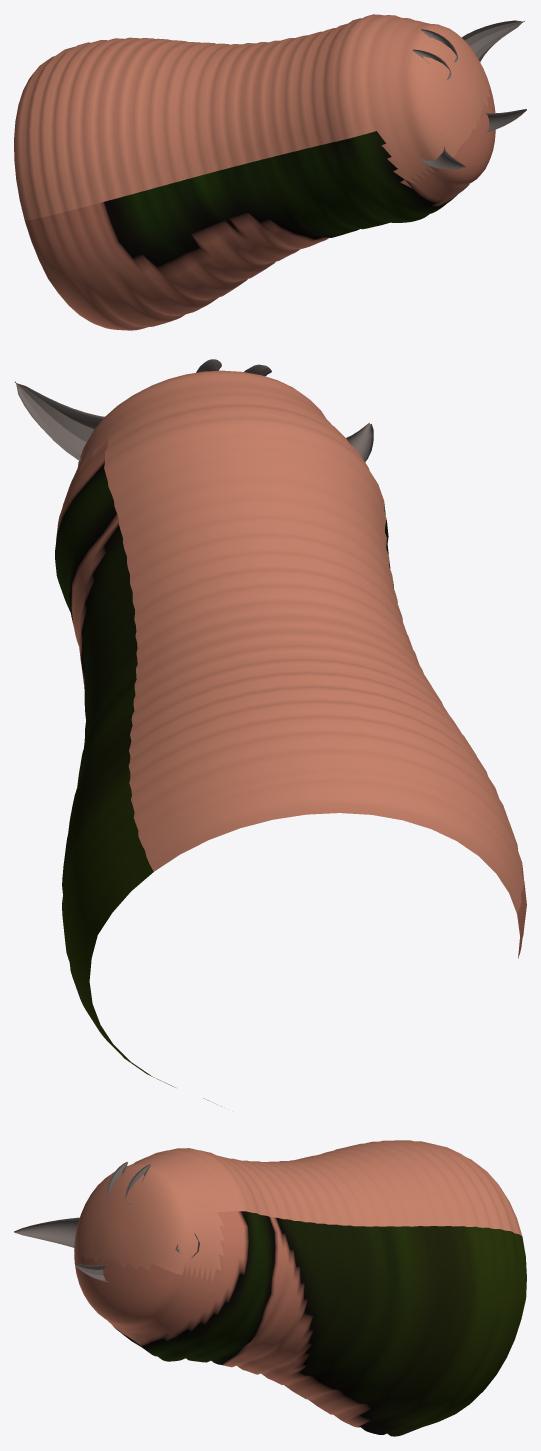
Rendered from big-worm-turret-corpse.glb.
3 views of the same model, one above another, from view 1: azimuth 30°, elevation 25°; view 2: azimuth 150°, elevation 25°; view 3: azimuth 270°, elevation 25° (orthographic). The views are drawn at different scales.
Parts seen in each view (by area): view 1: body; view 2: body; view 3: body.
Boxes of the visible parts, bbox=[...] form: body: bbox=[14, 14, 526, 330]; body: bbox=[14, 359, 526, 1104]; body: bbox=[14, 1140, 526, 1436].
Bounding box in the file's own units: 4.2 × 3.33 × 4.63.
